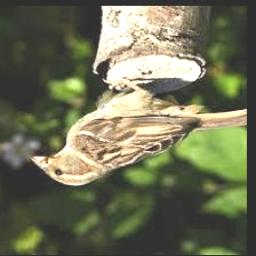Sparrow: (31, 80, 247, 187)
